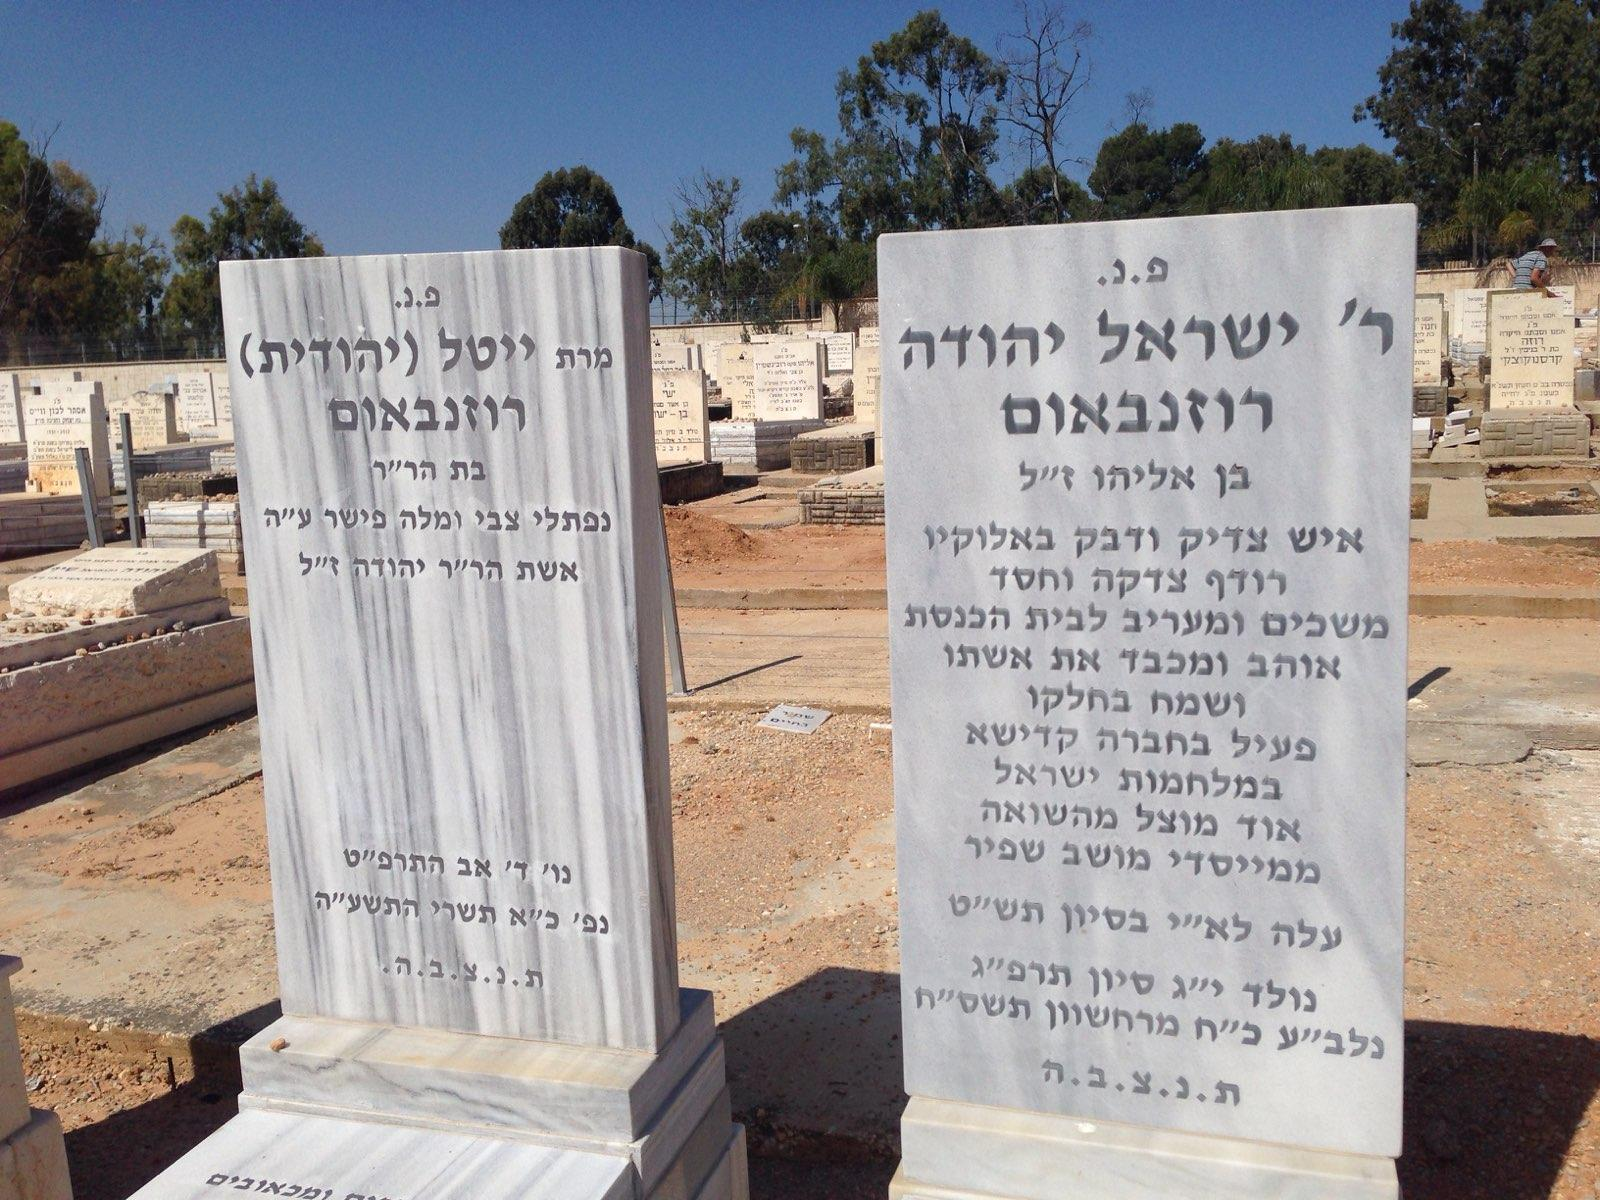upright: (144, 229, 751, 1145)
